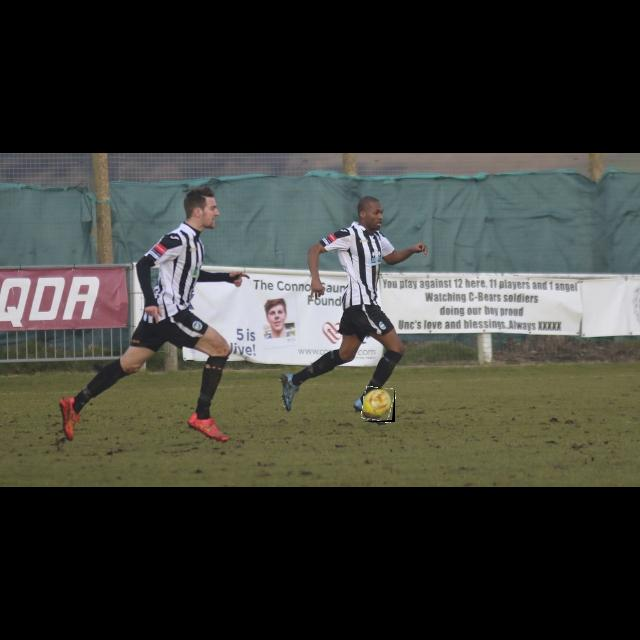Football: (363, 388, 395, 422)
